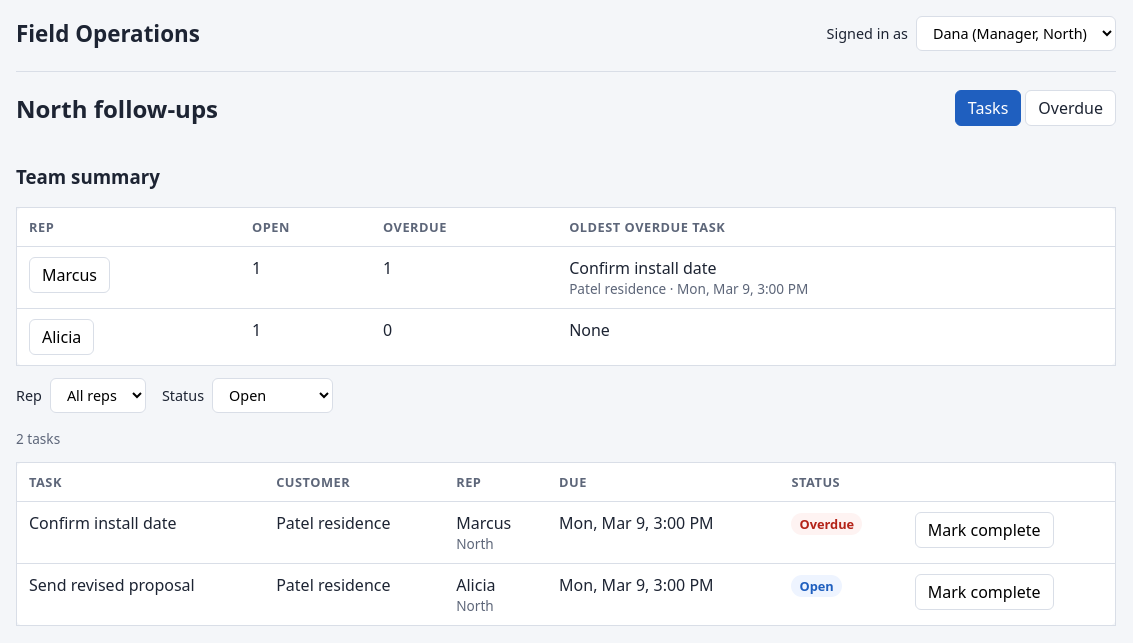
Manager summary › refreshes the summary after completion, retaining the rep with zero tasks
Expected: the table named "Tasks by rep" is shown, left=16, top=207, right=1116, bottom=366
Click the 1st button "Mark complete" at (984, 530), box left=915, top=512, right=1054, bottom=548
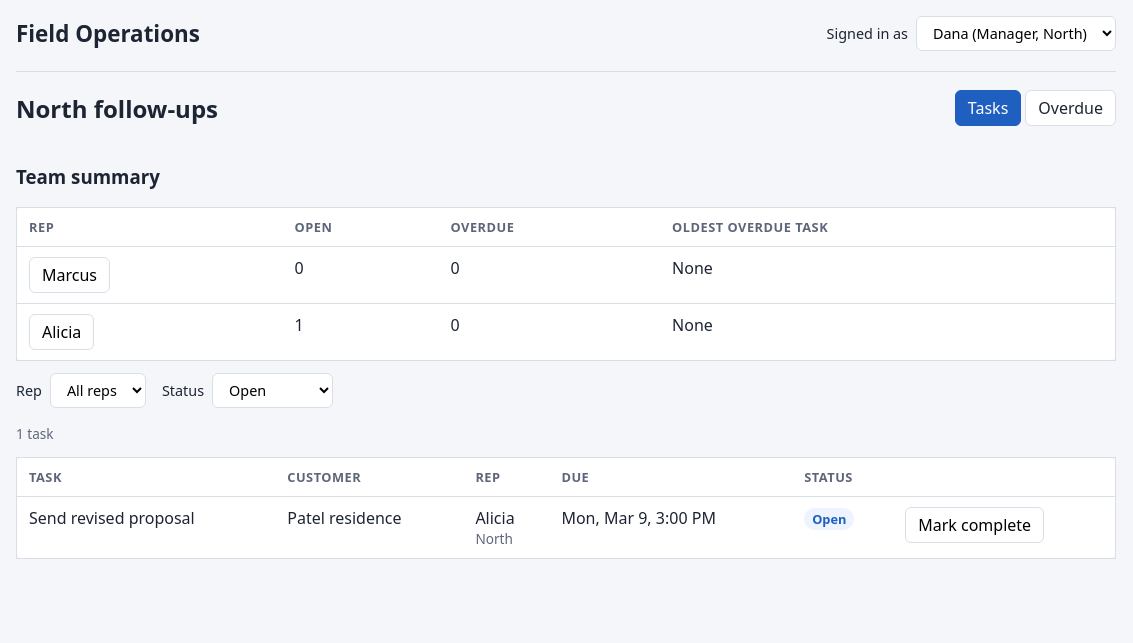
Expected: the cells read "Marcus", "0", "0", "None", in this order, left=16, top=247, right=282, bottom=304; left=282, top=247, right=438, bottom=304; left=438, top=247, right=660, bottom=304; left=660, top=247, right=1116, bottom=304
Expected: the text "Confirm install date" is gone
